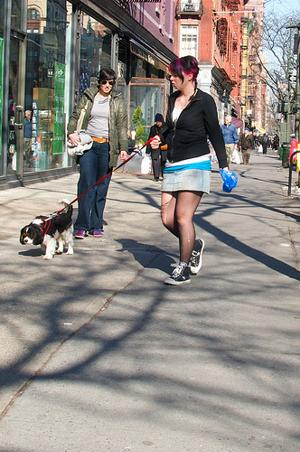person: (150, 58, 233, 281)
